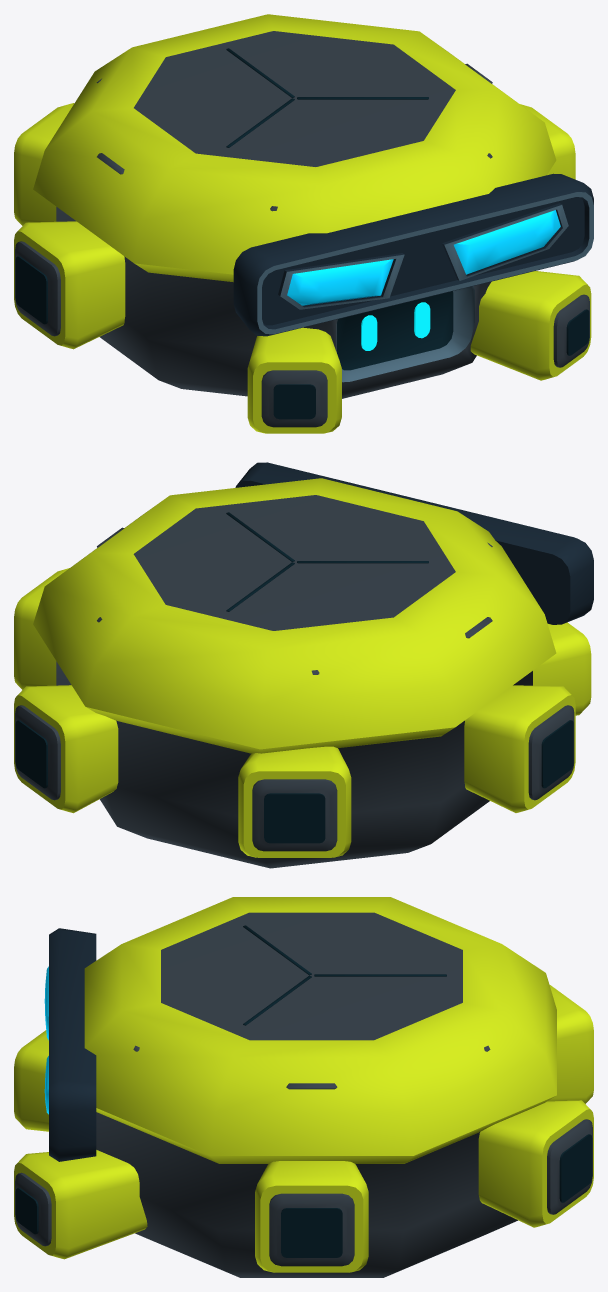
The model's file is copilot_linter_v01.glb.
The picture shows the model from 3 angles, top to bottom: view 1: azimuth 30°, elevation 25°; view 2: azimuth 150°, elevation 25°; view 3: azimuth 270°, elevation 25°; orthographic projection.
Parts seen in each view (by area): view 1: linter_agent_model; view 2: linter_agent_model; view 3: linter_agent_model.
Part boxes in pixels (x1=…): linter_agent_model: x1=14, y1=14, x2=593, y2=433; linter_agent_model: x1=14, y1=462, x2=593, y2=868; linter_agent_model: x1=14, y1=897, x2=593, y2=1277.
Size of the model in its own units: 2.58 by 1.08 by 2.45.
2 materials, 2 textured.
